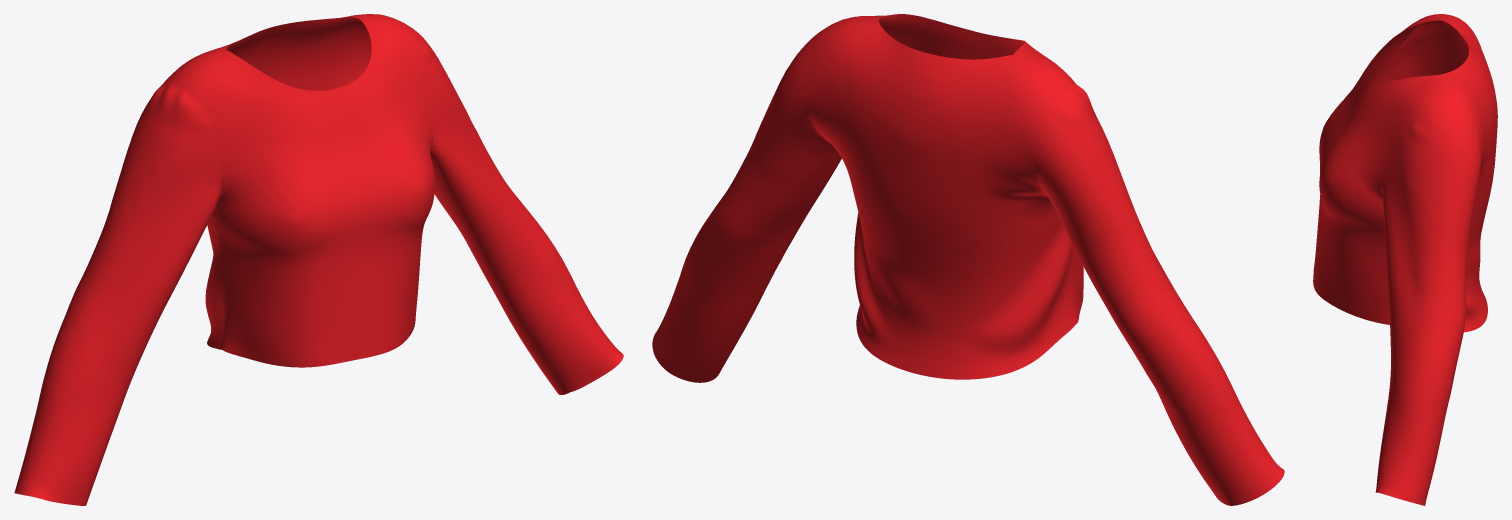
The model's file is Red_Long_arm_super_basic_top.glb.
3 renders of one model, left to right at view 1: azimuth 30°, elevation 25°; view 2: azimuth 150°, elevation 25°; view 3: azimuth 270°, elevation 25°, orthographic. The views are drawn at different scales.
Visible parts, largest first — view 1: node_id4; view 2: node_id4; view 3: node_id4.
Part boxes in pixels (bbox=[...]): node_id4: bbox=[14, 14, 623, 505]; node_id4: bbox=[652, 14, 1284, 505]; node_id4: bbox=[1313, 14, 1497, 505].
Size of the model in its own units: 0.512 by 0.33 by 0.1579.
Materials: 1 (1 with a texture image).
